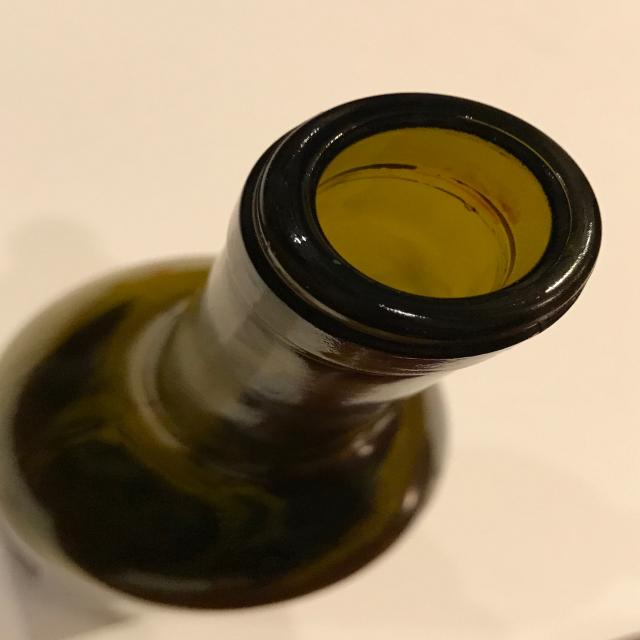glass: (1, 90, 602, 614)
